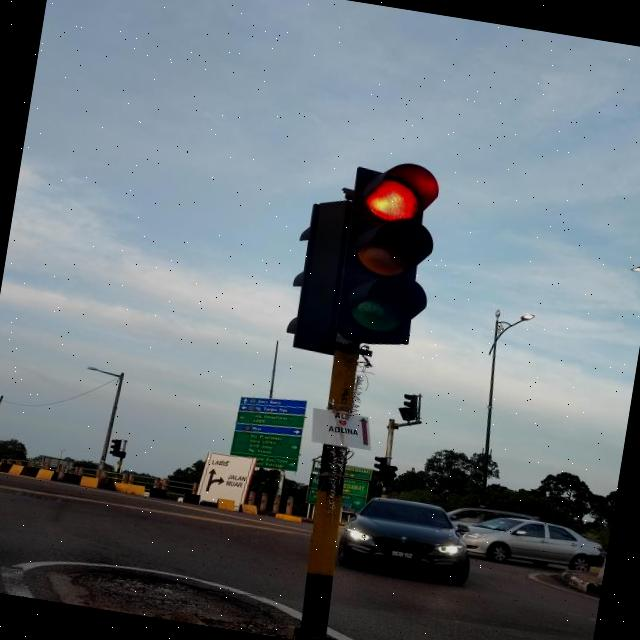red_light: (334, 156, 448, 347)
